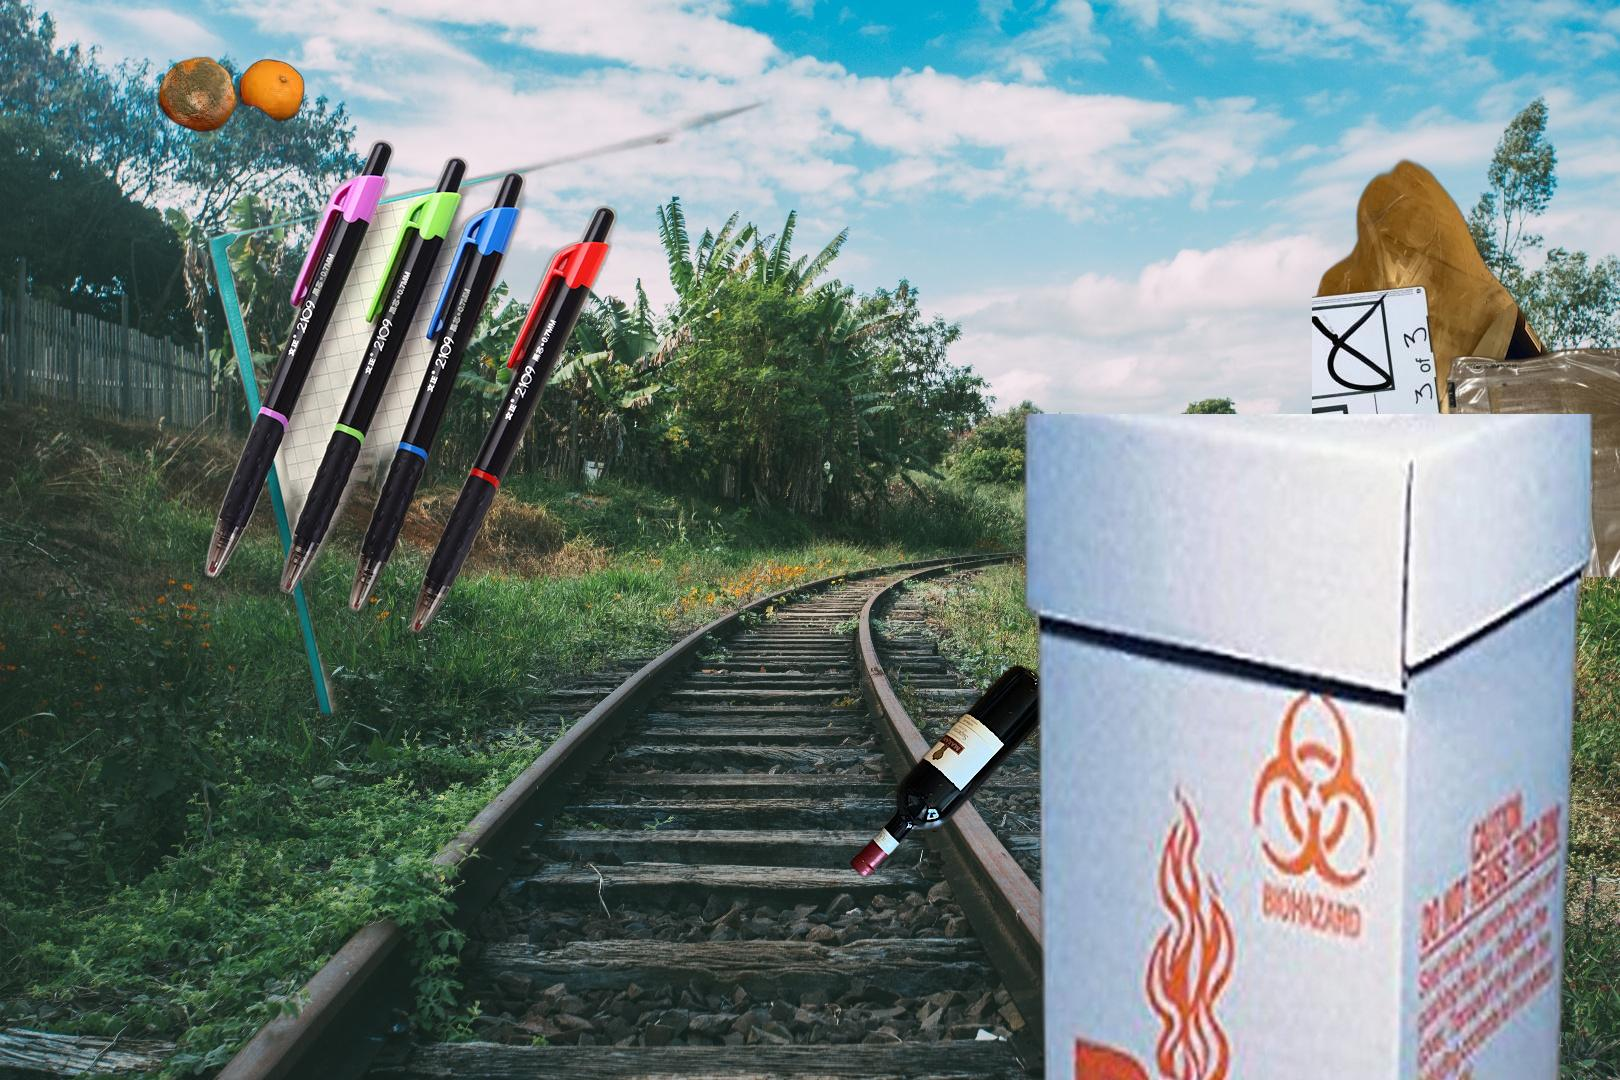biological: (154, 55, 305, 134)
glass: (846, 659, 1061, 883)
penholder: (197, 89, 772, 721), (1375, 980, 1620, 1080)
plastic-bottles: (1311, 155, 1568, 598)
trashbox-cardboard: (1013, 414, 1604, 1080), (932, 487, 1620, 832), (1312, 283, 1620, 577)
